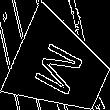M_SE: (31, 36, 91, 100)
